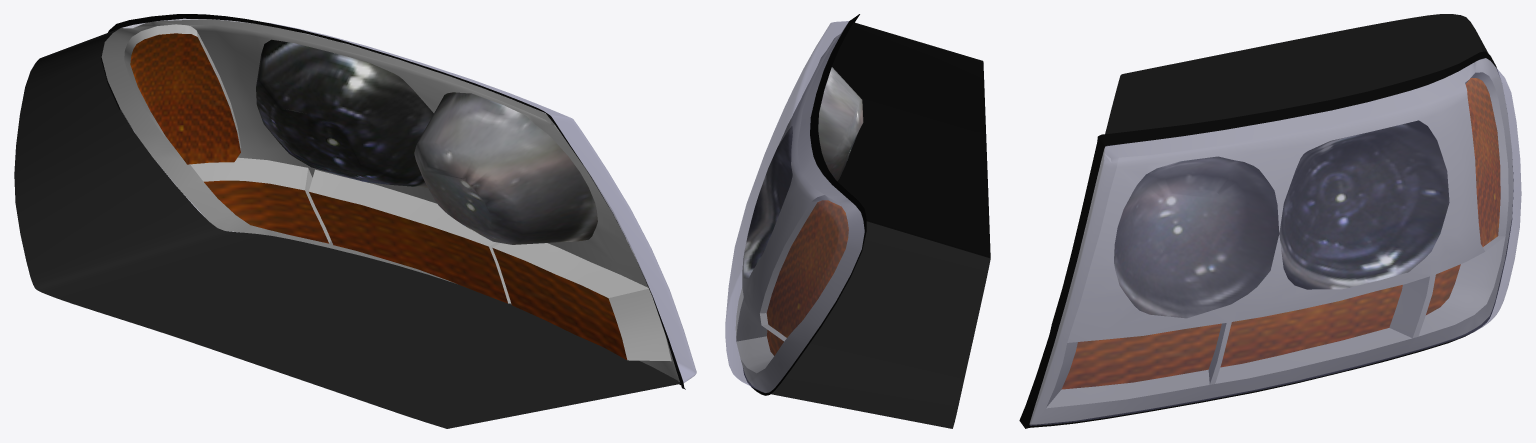
3 views of the same model, side by side, from view 1: azimuth 30°, elevation 25°; view 2: azimuth 150°, elevation 25°; view 3: azimuth 270°, elevation 25° (orthographic). The views are drawn at different scales.
Visible parts, largest first — view 1: J731_061B_L_J731_061B_L_6_D, J731_061B_L_J731_061B_L_4_DaS, J731_061B_L_1_N_J731_061B_L, J731_061B_L_J731_061B_L_3_N, J731_061B_L_J731_061B_L_2_N, J731_061B_L_J731_061B_L_5_N, J731_061B_L_J731_061B_L_7_DTaSI, J731_061B_L_J731_061B_L_8_D; view 2: J731_061B_L_J731_061B_L_6_D, J731_061B_L_J731_061B_L_7_DTaSI, J731_061B_L_J731_061B_L_4_DaS, J731_061B_L_J731_061B_L_5_N, J731_061B_L_1_N_J731_061B_L, J731_061B_L_J731_061B_L_2_N, J731_061B_L_J731_061B_L_8_D; view 3: J731_061B_L_J731_061B_L_7_DTaSI, J731_061B_L_J731_061B_L_4_DaS, J731_061B_L_J731_061B_L_6_D, J731_061B_L_J731_061B_L_2_N, J731_061B_L_1_N_J731_061B_L, J731_061B_L_J731_061B_L_3_N, J731_061B_L_J731_061B_L_8_D, J731_061B_L_J731_061B_L_5_N.
Part boxes in pixels (left/top/right/bottom): J731_061B_L_J731_061B_L_6_D: left=14, top=28, right=680, bottom=428; J731_061B_L_J731_061B_L_4_DaS: left=101, top=19, right=679, bottom=381; J731_061B_L_1_N_J731_061B_L: left=414, top=92, right=597, bottom=244; J731_061B_L_J731_061B_L_3_N: left=204, top=180, right=627, bottom=359; J731_061B_L_J731_061B_L_2_N: left=256, top=39, right=433, bottom=187; J731_061B_L_J731_061B_L_5_N: left=130, top=33, right=240, bottom=164; J731_061B_L_J731_061B_L_7_DTaSI: left=123, top=19, right=696, bottom=382; J731_061B_L_J731_061B_L_8_D: left=101, top=14, right=685, bottom=389; J731_061B_L_J731_061B_L_6_D: left=759, top=22, right=990, bottom=428; J731_061B_L_J731_061B_L_7_DTaSI: left=725, top=21, right=864, bottom=392; J731_061B_L_J731_061B_L_4_DaS: left=735, top=27, right=864, bottom=392; J731_061B_L_J731_061B_L_5_N: left=766, top=200, right=848, bottom=337; J731_061B_L_1_N_J731_061B_L: left=818, top=67, right=863, bottom=181; J731_061B_L_J731_061B_L_2_N: left=743, top=126, right=792, bottom=278; J731_061B_L_J731_061B_L_8_D: left=743, top=14, right=866, bottom=395; J731_061B_L_J731_061B_L_7_DTaSI: left=1029, top=58, right=1521, bottom=425; J731_061B_L_J731_061B_L_4_DaS: left=1030, top=58, right=1513, bottom=424; J731_061B_L_J731_061B_L_6_D: left=1030, top=14, right=1513, bottom=424; J731_061B_L_J731_061B_L_2_N: left=1279, top=120, right=1449, bottom=289; J731_061B_L_1_N_J731_061B_L: left=1114, top=156, right=1279, bottom=318; J731_061B_L_J731_061B_L_3_N: left=1062, top=264, right=1460, bottom=389; J731_061B_L_J731_061B_L_8_D: left=1019, top=51, right=1511, bottom=428; J731_061B_L_J731_061B_L_5_N: left=1465, top=78, right=1500, bottom=246.
Bounding box in the file's own units: 44.49 × 26.96 × 49.2.
